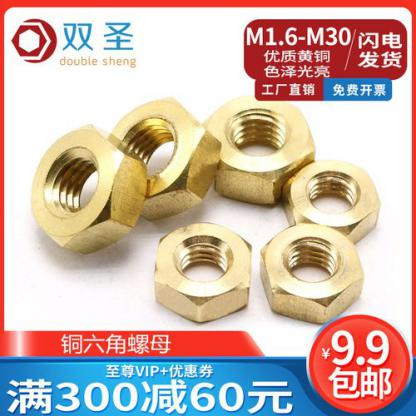FOD: (95, 94, 224, 222), (29, 121, 148, 253), (198, 93, 317, 206), (258, 222, 366, 327), (151, 220, 254, 324), (283, 156, 378, 243)
